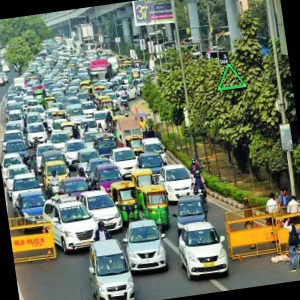triangle: (216, 60, 247, 93)
